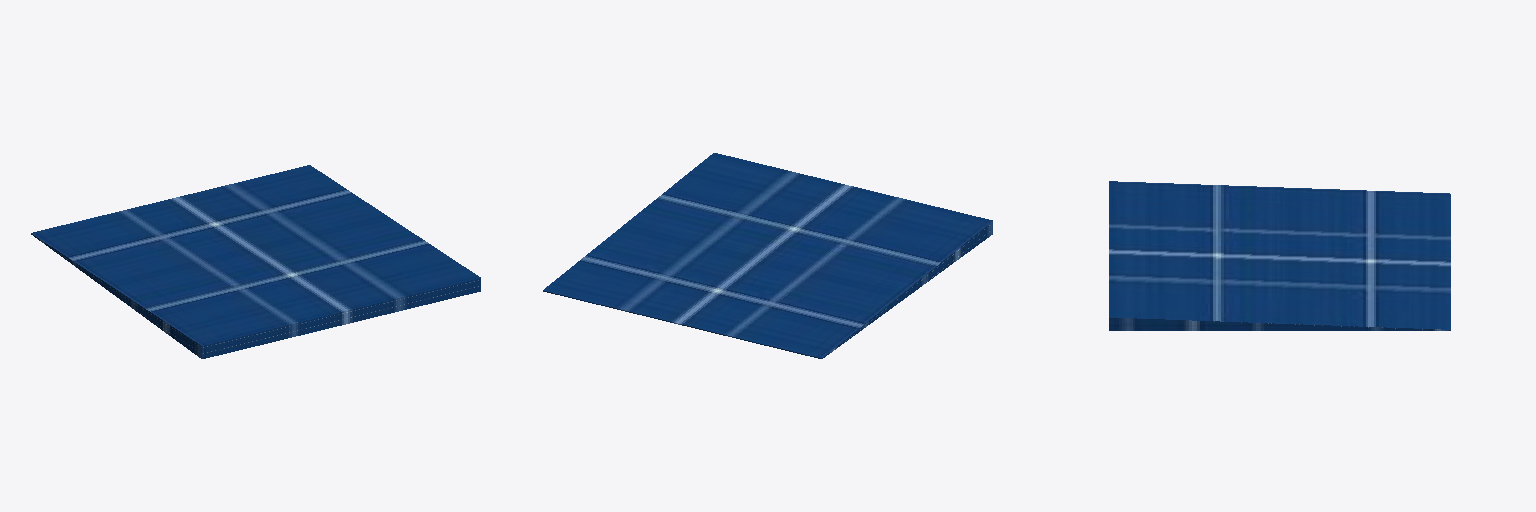
3 renders of one model, left to right at view 1: azimuth 30°, elevation 25°; view 2: azimuth 150°, elevation 25°; view 3: azimuth 270°, elevation 25°, orthographic.
Parts seen in each view (by area): view 1: casafix5:pCube14 pasted__group28 group; view 2: casafix5:pCube14 pasted__group28 group; view 3: casafix5:pCube14 pasted__group28 group.
Boxes of the visible parts, x1,y1,x2,y2 form: casafix5:pCube14 pasted__group28 group: [31, 165, 480, 358]; casafix5:pCube14 pasted__group28 group: [543, 153, 992, 358]; casafix5:pCube14 pasted__group28 group: [1109, 181, 1450, 330].
Size of the model in its own units: 9.84 by 0.45 by 10.46.
Materials: 1 (1 with a texture image).